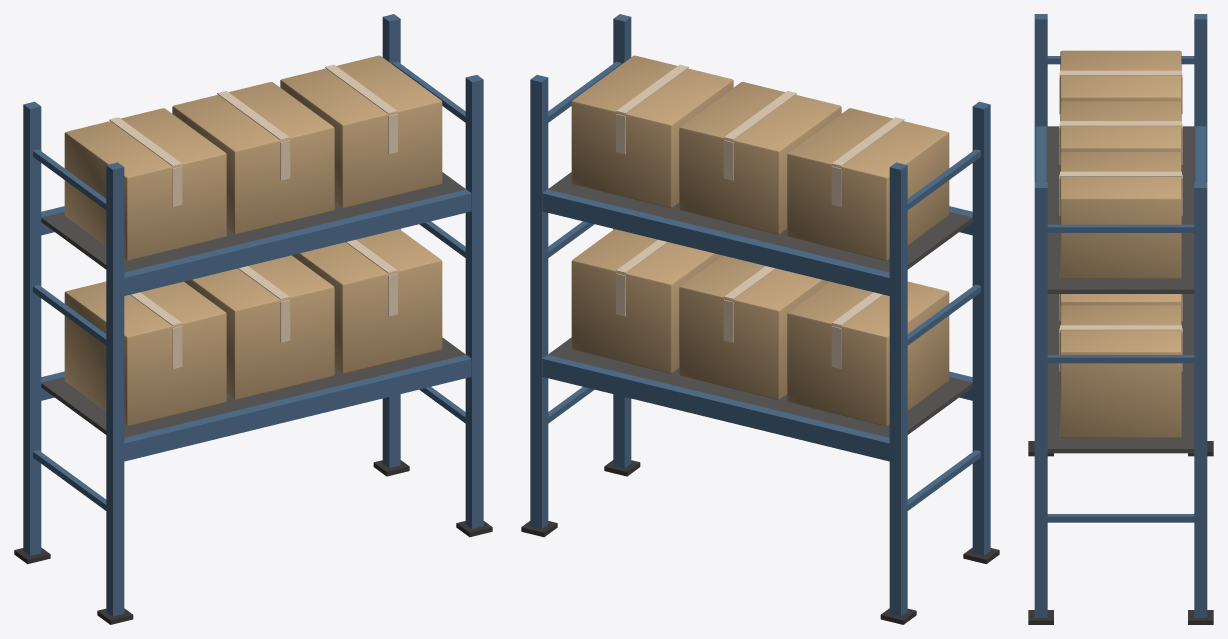
Rendered from rack_full.glb.
3 renders of one model, left to right at view 1: azimuth 30°, elevation 25°; view 2: azimuth 150°, elevation 25°; view 3: azimuth 270°, elevation 25°, orthographic. The views are drawn at different scales.
Parts seen in each view (by area): view 1: L2_Box_1, L1_Box_1, L2_Box_2, L2_Box_3, L1_Box_2, L1_Box_3, Rack_Col_-1.25_-0.5, Rack_BeamR_2, Rack_BeamR_1, Rack_Col_1.25_-0.5, Rack_Col_-1.25_0.5, Rack_Deck_1 (+9 smaller); view 2: L2_Box_1, L1_Box_1, L2_Box_2, L2_Box_3, L1_Box_2, L1_Box_3, Rack_Col_-1.25_0.5, Rack_BeamF_2, Rack_BeamF_1, Rack_Col_1.25_0.5, Rack_Col_-1.25_-0.5, Rack_Deck_1 (+9 smaller); view 3: L1_Box_3, L2_Box_3, Rack_Deck_2, Rack_Col_1.25_0.5, Rack_Col_1.25_-0.5, Rack_Deck_1, L2_Box_1, L2_Box_2, Rack_Col_-1.25_0.5, Rack_Col_-1.25_-0.5, L1_Box_2, Rack_SideBrace_1.25_0.7 (+10 smaller).
Part boxes in pixels (x1,y1,x2,y2): L2_Box_1: [64, 108, 226, 260]; L1_Box_1: [64, 281, 226, 425]; L2_Box_2: [172, 82, 334, 234]; L2_Box_3: [280, 55, 442, 208]; L1_Box_2: [184, 255, 334, 399]; L1_Box_3: [292, 229, 442, 373]; Rack_Col_-1.25_-0.5: [106, 162, 124, 616]; Rack_BeamR_2: [124, 189, 471, 295]; Rack_BeamR_1: [124, 355, 471, 461]; Rack_Col_1.25_-0.5: [465, 75, 483, 528]; Rack_Col_-1.25_0.5: [23, 101, 41, 555]; Rack_Deck_1: [41, 337, 465, 437]; L2_Box_1: [787, 108, 949, 260]; L1_Box_1: [787, 281, 949, 425]; L2_Box_2: [679, 82, 841, 234]; L2_Box_3: [571, 55, 733, 208]; L1_Box_2: [679, 255, 829, 399]; L1_Box_3: [571, 229, 721, 373]; Rack_Col_-1.25_0.5: [889, 162, 907, 616]; Rack_BeamF_2: [542, 189, 889, 295]; Rack_BeamF_1: [542, 355, 889, 461]; Rack_Col_1.25_0.5: [530, 75, 548, 528]; Rack_Col_-1.25_-0.5: [972, 101, 990, 555]; Rack_Deck_1: [548, 337, 972, 437]; L1_Box_3: [1060, 305, 1181, 437]; L2_Box_3: [1060, 152, 1181, 278]; Rack_Deck_2: [1046, 126, 1195, 293]; Rack_Col_1.25_0.5: [1194, 182, 1207, 617]; Rack_Col_1.25_-0.5: [1034, 182, 1047, 617]; Rack_Deck_1: [1047, 294, 1194, 453]; L2_Box_1: [1060, 50, 1181, 102]; L2_Box_2: [1060, 101, 1181, 152]; Rack_Col_-1.25_0.5: [1194, 14, 1207, 182]; Rack_Col_-1.25_-0.5: [1034, 14, 1047, 182]; L1_Box_2: [1060, 294, 1181, 306]; Rack_SideBrace_1.25_0.7: [1047, 514, 1194, 522].
Size of the model in its own units: 2.66 by 3 by 1.16.
